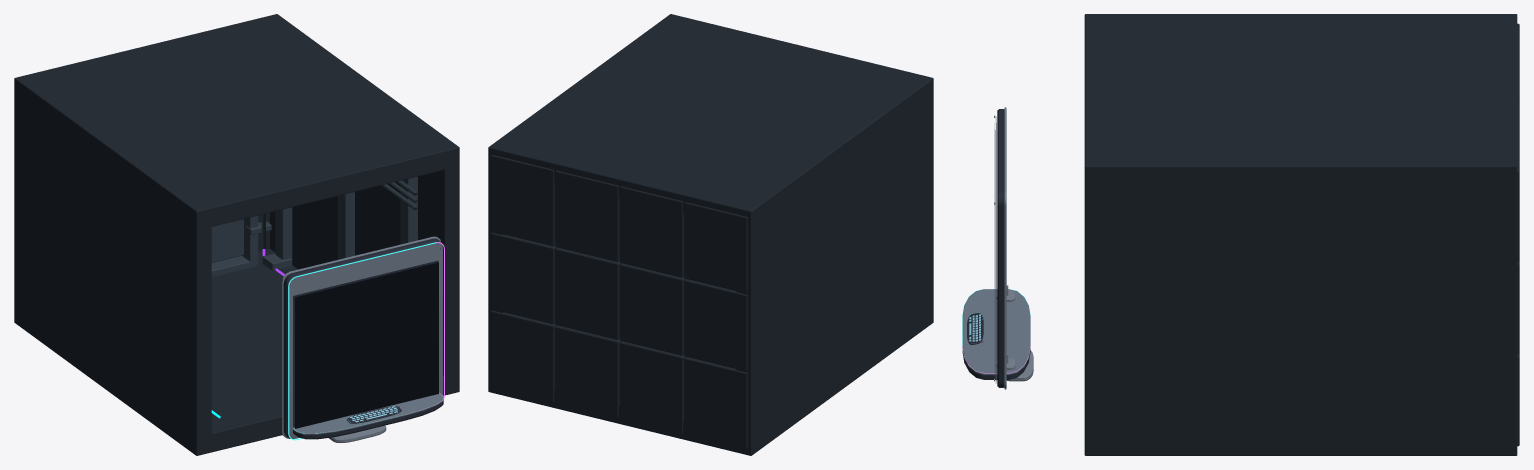
Rendered from cockpit-workstation.glb.
3 views of the same model, side by side, from view 1: azimuth 30°, elevation 25°; view 2: azimuth 150°, elevation 25°; view 3: azimuth 270°, elevation 25° (orthographic). The views are drawn at different scales.
Parts seen in each view (by area): view 1: bunker-concrete-shell, monitor-live-pixels, bunker-titanium-structure, monitor-bezel, monitor-glass, screen-back, desk-bevel, desk-glass, desk, screen-rear-bevel, monitor-rim, bunker-conduits (+2 smaller); view 2: bunker-concrete-shell; view 3: bunker-concrete-shell, desk-bevel, desk-glass, screen-back, screen-rear-bevel.
Boxes of the visible parts, bbox=[...] form: bunker-concrete-shell: bbox=[14, 14, 459, 455]; monitor-live-pixels: bbox=[295, 262, 438, 428]; bunker-titanium-structure: bbox=[211, 176, 417, 276]; monitor-bezel: bbox=[288, 242, 442, 438]; monitor-glass: bbox=[290, 243, 442, 438]; screen-back: bbox=[283, 238, 442, 438]; desk-bevel: bbox=[292, 393, 443, 434]; desk-glass: bbox=[294, 394, 442, 432]; desk: bbox=[293, 401, 443, 439]; screen-rear-bevel: bbox=[282, 236, 440, 438]; monitor-rim: bbox=[288, 242, 444, 440]; bunker-conduits: bbox=[261, 180, 417, 248]; bunker-concrete-shell: bbox=[488, 14, 933, 455]; bunker-concrete-shell: bbox=[1084, 14, 1519, 455]; desk-bevel: bbox=[962, 289, 1030, 374]; desk-glass: bbox=[963, 289, 1029, 372]; screen-back: bbox=[997, 109, 1004, 387]; screen-rear-bevel: bbox=[1004, 107, 1006, 389].
Bounding box in the file's own units: 1.7 × 1.51 × 2.63.
